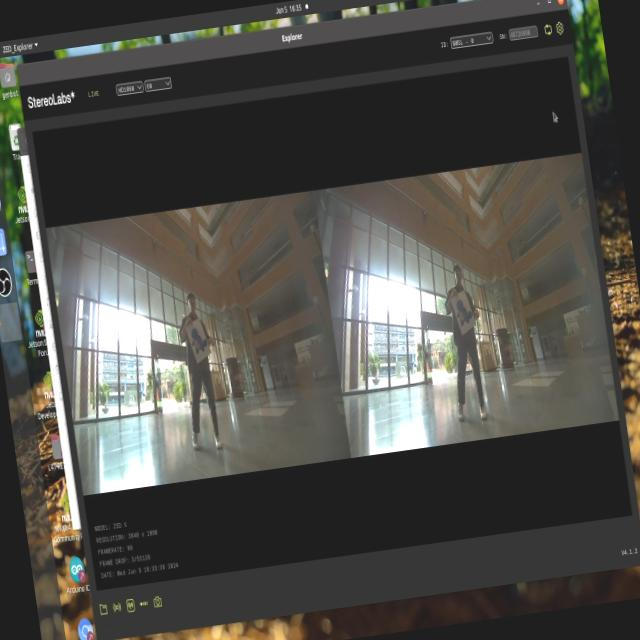blue: (182, 320, 210, 360), (455, 294, 474, 329)
